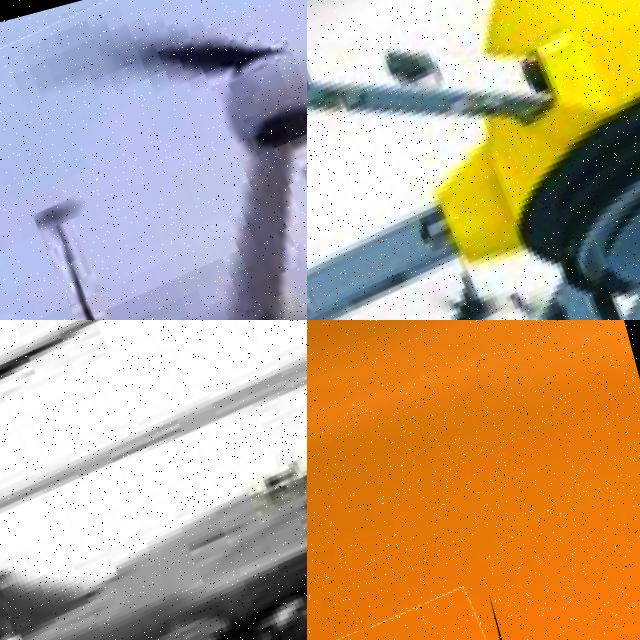drone: (307, 0, 640, 320), (0, 0, 307, 320), (0, 320, 307, 640)
